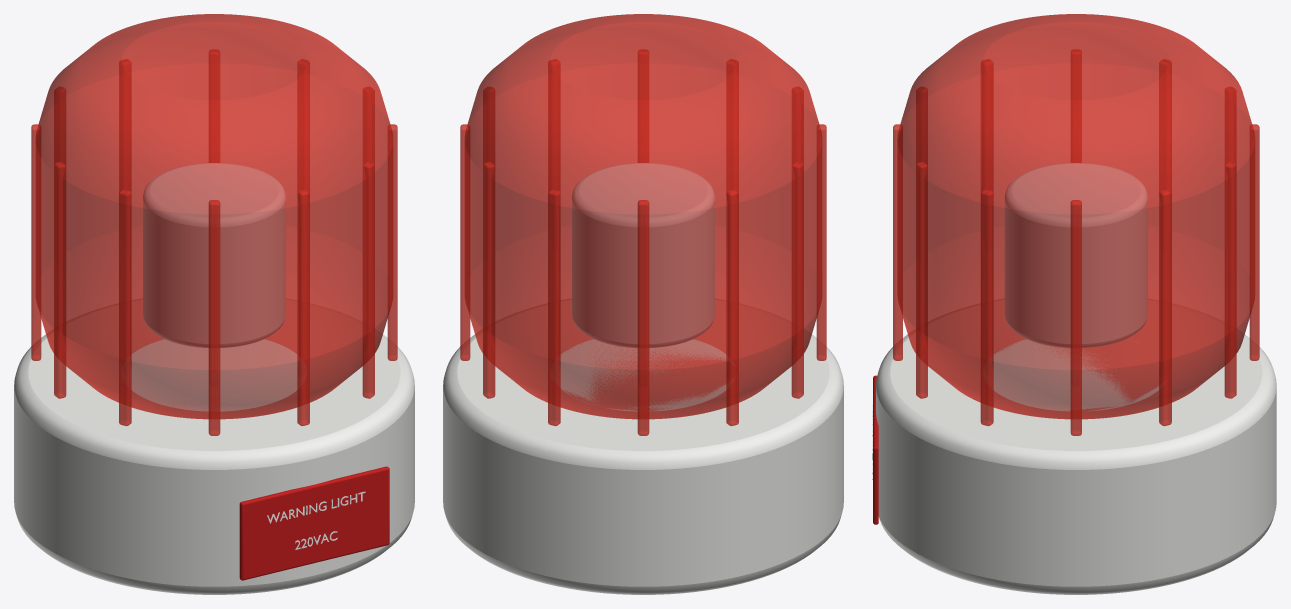
File: beacon.glb
The picture shows the model from 3 angles, left to right: view 1: azimuth 30°, elevation 25°; view 2: azimuth 150°, elevation 25°; view 3: azimuth 270°, elevation 25°; orthographic projection.
Parts seen in each view (by area): view 1: cover, housing, lever; view 2: cover, housing, lever; view 3: cover, housing, lever.
Boxes of the visible parts, x1,y1,x2,y2 form: cover: (31,14,397,435); housing: (14,299,414,594); lever: (143,163,285,347); cover: (460,14,826,435); housing: (443,299,843,594); lever: (572,163,714,347); cover: (893,14,1259,435); housing: (872,299,1276,594); lever: (1004,163,1147,347).
Size of the model in its own units: 0.056 by 0.07 by 0.0565.
